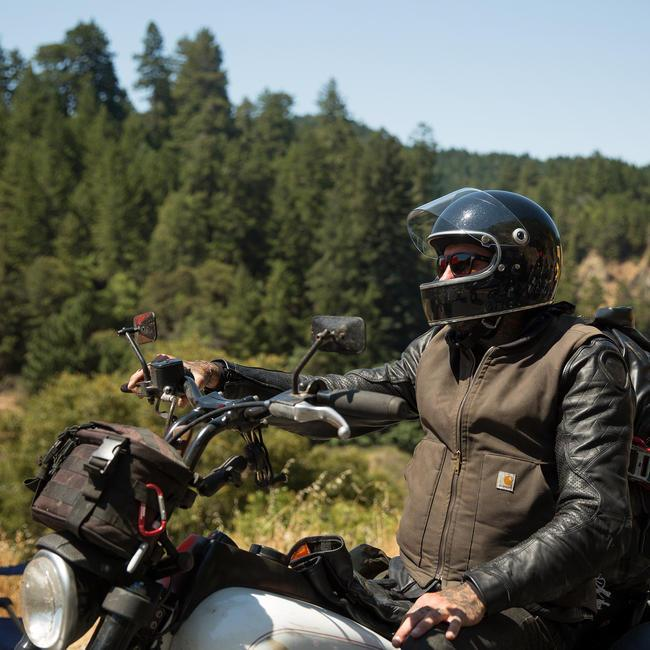helmet: (399, 186, 567, 329)
